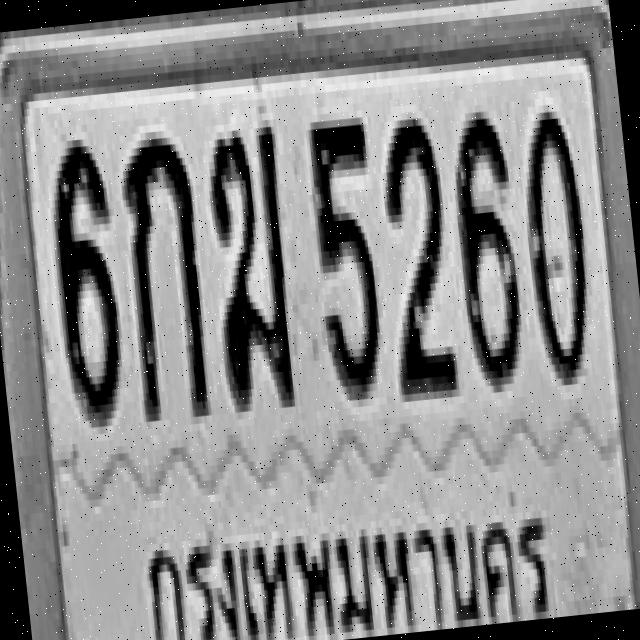0: (514, 99, 598, 384)
10GorGai: (113, 128, 214, 422)
15KhorRaKhang: (200, 120, 300, 406)
2: (372, 113, 461, 398)
5: (302, 110, 392, 402)
6: (43, 134, 130, 426), (444, 102, 528, 387)
Bangkok: (134, 470, 562, 640)
